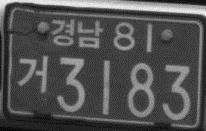1: (99, 57, 115, 118), (143, 21, 156, 55)
3: (55, 54, 87, 113), (162, 63, 192, 120)
8: (127, 59, 156, 118), (113, 21, 137, 51)
거: (17, 51, 50, 96)
경남_O: (50, 17, 104, 49)
